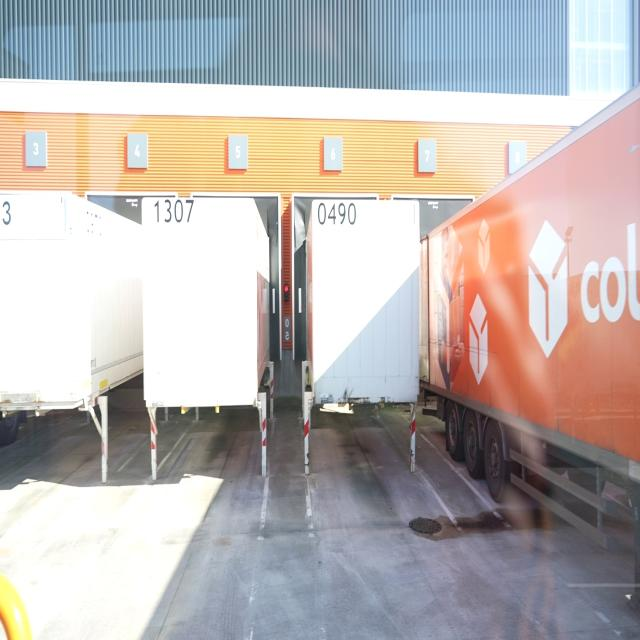Code: (152, 194, 197, 230), (316, 198, 360, 231)
